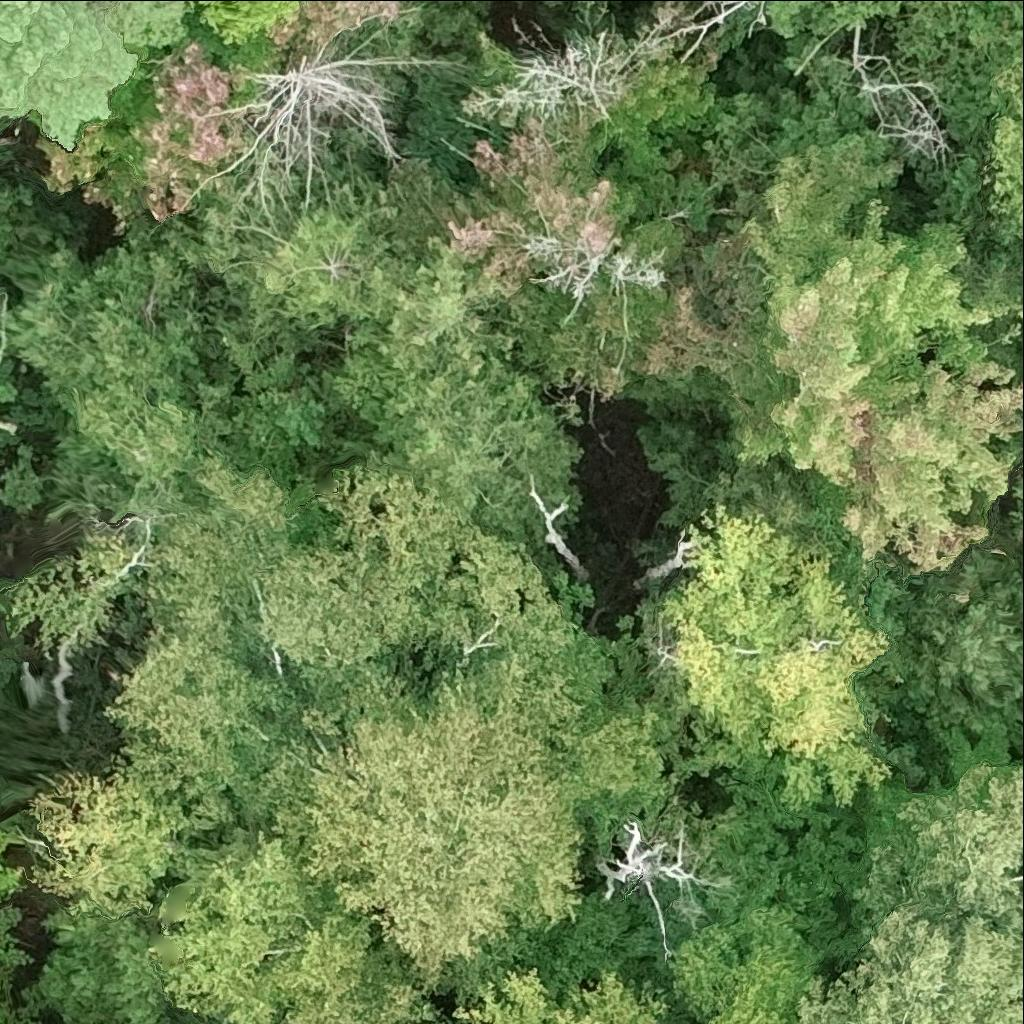crown: (103, 450, 663, 980), (654, 87, 1023, 578), (659, 502, 888, 809), (446, 120, 683, 401), (157, 834, 439, 1023), (361, 355, 579, 514), (332, 239, 513, 411), (883, 538, 1023, 753), (858, 764, 1023, 940), (798, 899, 1023, 1023), (28, 763, 193, 924), (212, 57, 397, 183), (669, 873, 821, 1023), (252, 183, 408, 329), (600, 817, 731, 957), (582, 60, 730, 181), (39, 913, 170, 1023), (453, 967, 667, 1023), (991, 59, 1023, 244), (1016, 296, 1023, 322)
